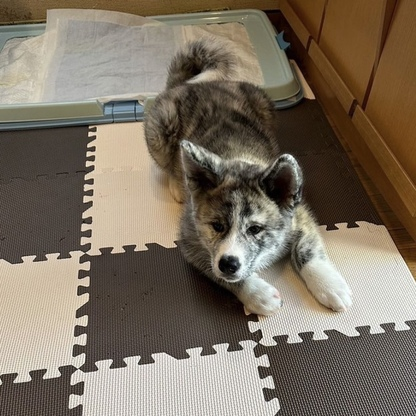akita: (138, 31, 357, 320)
